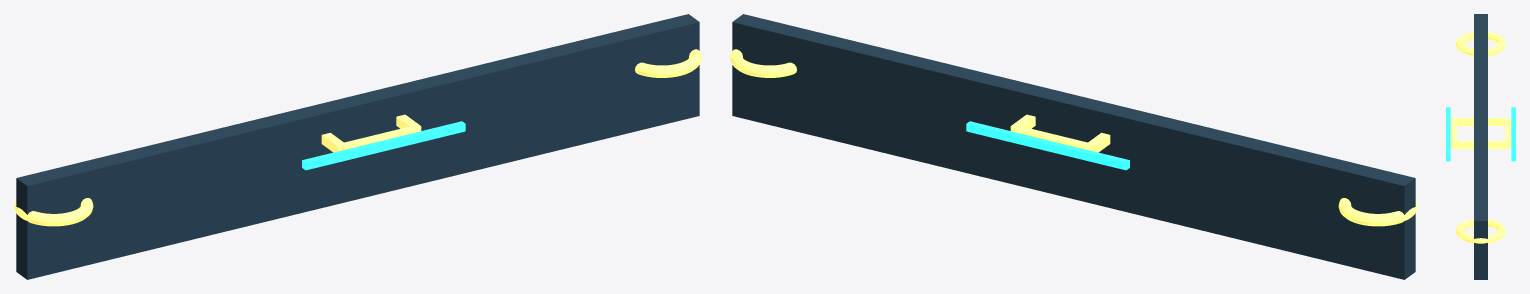
File: arcade-crest.glb
The picture shows the model from 3 angles, left to right: view 1: azimuth 30°, elevation 25°; view 2: azimuth 150°, elevation 25°; view 3: azimuth 270°, elevation 25°; orthographic projection. The views are drawn at different scales.
Visible parts, largest first — view 1: crest dark bar, light slash.001, gold ring, gold ring.001, diamond edge.002; view 2: crest dark bar, light slash, gold ring, gold ring.001, diamond edge; view 3: crest dark bar, gold ring.001, gold ring, diamond edge.003, diamond edge.001, light slash, light slash.001, diamond edge, diamond edge.002.
Boxes of the visible parts, x1,y1,x2,y2 form: crest dark bar: [16, 14, 699, 279]; light slash.001: [302, 121, 465, 170]; gold ring: [14, 198, 93, 226]; gold ring.001: [635, 49, 701, 77]; diamond edge.002: [342, 126, 419, 150]; crest dark bar: [732, 14, 1415, 279]; light slash: [966, 121, 1129, 170]; gold ring: [1338, 198, 1417, 226]; gold ring.001: [730, 49, 796, 77]; diamond edge: [1012, 126, 1091, 150]; crest dark bar: [1474, 14, 1487, 279]; gold ring.001: [1456, 218, 1505, 243]; gold ring: [1456, 31, 1505, 56]; diamond edge.003: [1453, 140, 1508, 148]; diamond edge.001: [1453, 117, 1508, 125]; light slash: [1511, 107, 1515, 161]; light slash.001: [1446, 107, 1450, 161]; diamond edge: [1505, 119, 1511, 147]; diamond edge.002: [1450, 119, 1456, 147].
Bounding box in the file's own units: 4.23 × 0.56 × 0.6.
